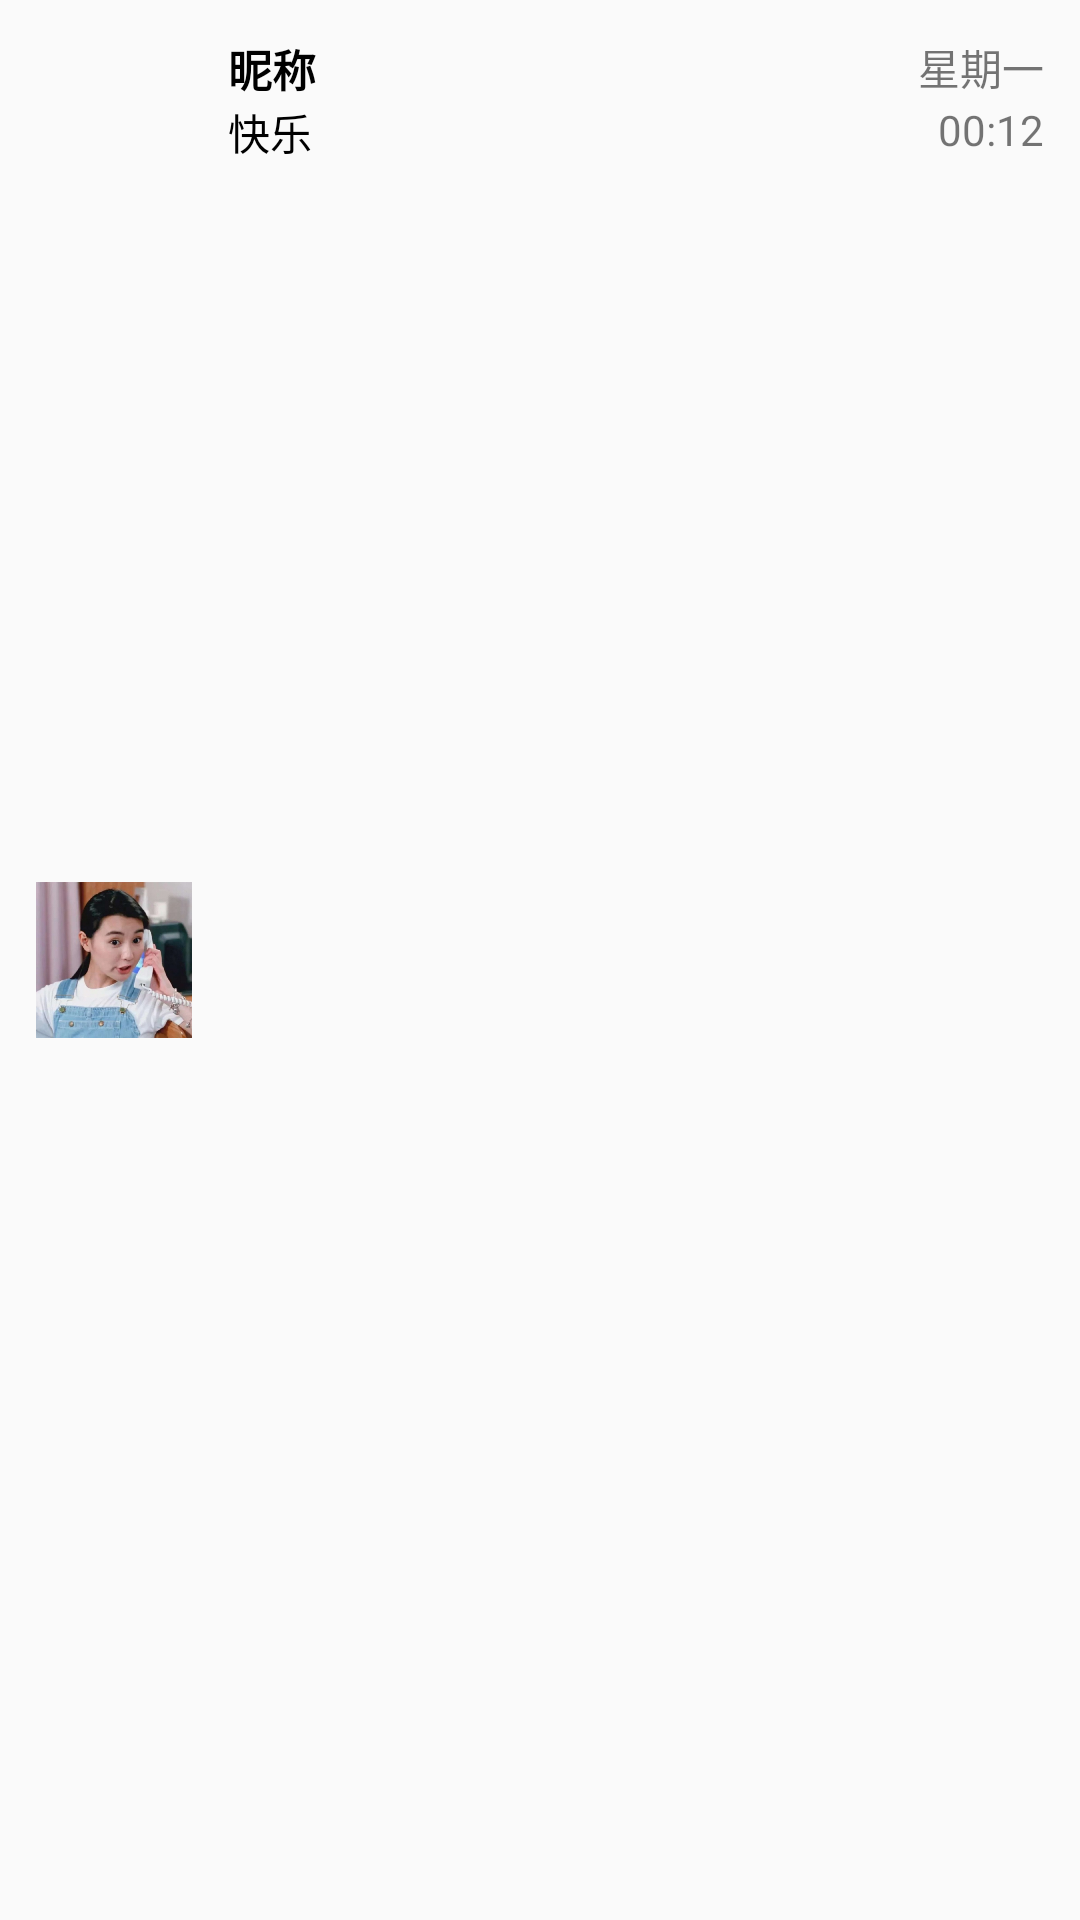

Point at icon controls on the screen. Image size 1080w x 1920h, points as [x,y].
head: [114,960]
